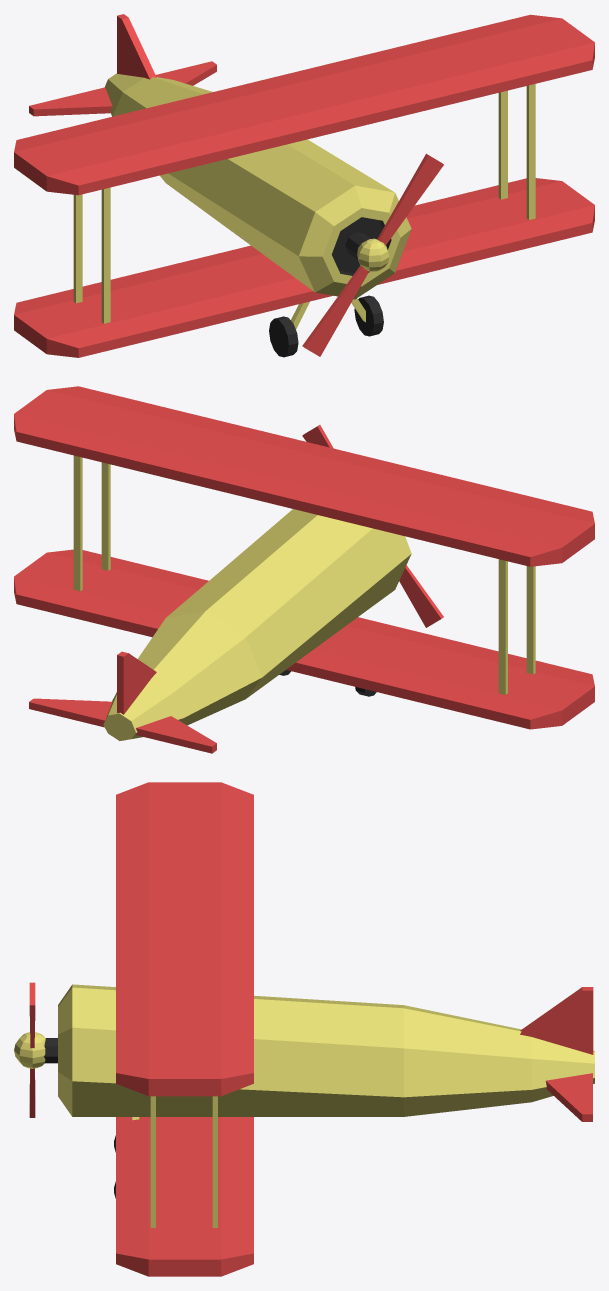
3 views of the same model, one above another, from view 1: azimuth 30°, elevation 25°; view 2: azimuth 150°, elevation 25°; view 3: azimuth 270°, elevation 25° (orthographic). The views are drawn at different scales.
Visible parts, largest first — view 1: plane; view 2: plane; view 3: plane.
Boxes of the visible parts, x1,y1,x2,y2 form: plane: [14, 14, 594, 357]; plane: [14, 386, 594, 753]; plane: [14, 782, 594, 1276].
Size of the model in its own units: 4.85 by 1.96 by 4.02.
